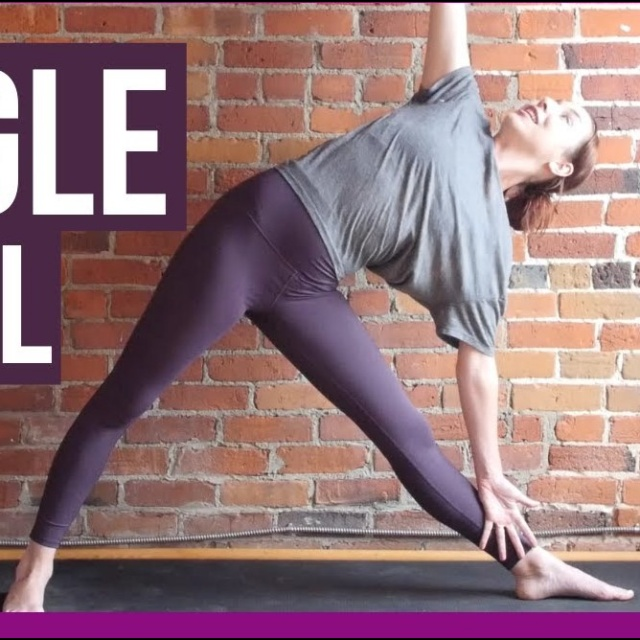Triangle_Pose: (1, 1, 638, 610)
